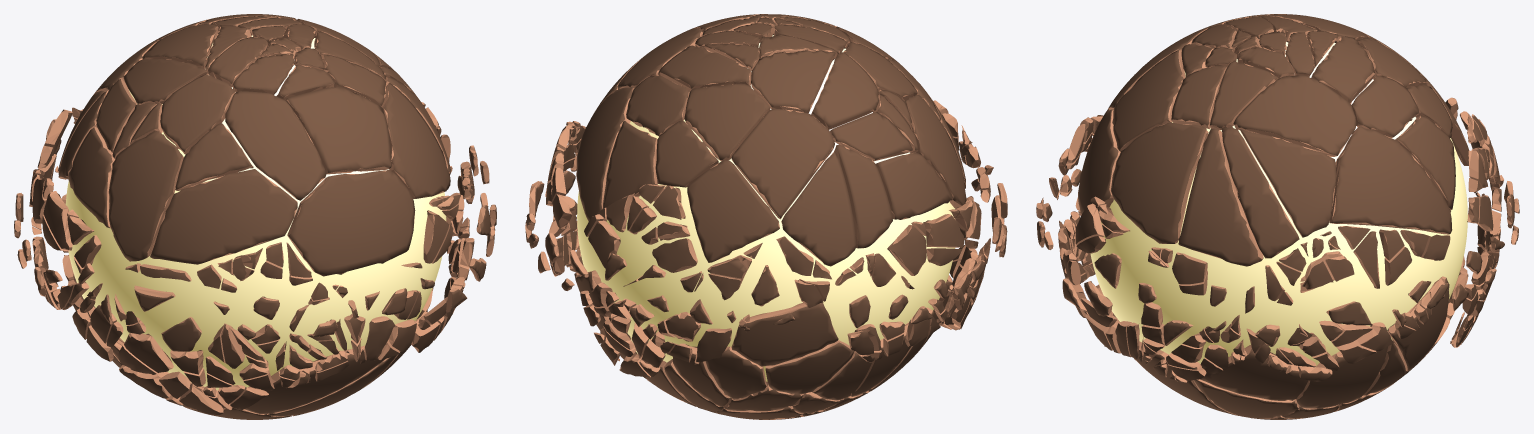
File: blender_planet_basic.glb
The picture shows the model from 3 angles, left to right: view 1: azimuth 30°, elevation 25°; view 2: azimuth 150°, elevation 25°; view 3: azimuth 270°, elevation 25°; orthographic projection.
Parts seen in each view (by area): view 1: Sphere, Sphere_cell.116, Sphere_cell.013, Sphere_cell.110, Sphere_cell.019, Sphere_cell.008, Sphere_cell.022, Sphere_cell.003, Sphere_cell.051, Sphere_cell.006, Sphere_cell.054, Sphere_cell.012 (+22 smaller); view 2: Sphere, Sphere_cell.007, Sphere_cell.118, Sphere_cell.108, Sphere_cell.057, Sphere_cell.130, Sphere_cell.056, Sphere_cell.024, Sphere_cell.051, Sphere_cell.114, Sphere_cell.012, Sphere_cell.098 (+37 smaller); view 3: Sphere, Sphere_cell.024 (×2), Sphere_cell.022 (×2), Sphere_cell.000 (×2), Sphere_cell.123, Sphere_cell.025, Sphere_cell.126, Sphere_cell.008, Sphere_cell.112, Sphere_cell.105, Sphere_cell.103, Sphere_cell.098 (+28 smaller).
Boxes of the visible parts, x1,y1,x2,y2 form: Sphere: [65, 35, 446, 390]; Sphere_cell.116: [288, 169, 415, 276]; Sphere_cell.013: [150, 169, 297, 264]; Sphere_cell.110: [225, 91, 326, 200]; Sphere_cell.019: [108, 131, 182, 261]; Sphere_cell.008: [286, 86, 391, 172]; Sphere_cell.022: [384, 83, 450, 198]; Sphere_cell.003: [160, 73, 234, 151]; Sphere_cell.051: [68, 127, 112, 227]; Sphere_cell.006: [175, 123, 253, 189]; Sphere_cell.054: [245, 349, 384, 413]; Sphere_cell.012: [123, 58, 206, 103]; Sphere: [577, 35, 955, 397]; Sphere_cell.007: [731, 109, 834, 218]; Sphere_cell.118: [687, 160, 779, 262]; Sphere_cell.108: [782, 152, 856, 266]; Sphere_cell.057: [731, 302, 838, 366]; Sphere_cell.130: [684, 83, 769, 160]; Sphere_cell.056: [751, 50, 835, 111]; Sphere_cell.024: [576, 87, 633, 221]; Sphere_cell.051: [877, 152, 952, 219]; Sphere_cell.114: [835, 145, 892, 248]; Sphere_cell.012: [813, 52, 878, 126]; Sphere_cell.098: [603, 120, 656, 208]; Sphere: [1090, 42, 1467, 367]; Sphere_cell.024 (×2): [1329, 126, 1452, 234]; Sphere_cell.022 (×2): [1111, 122, 1208, 243]; Sphere_cell.000 (×2): [1178, 128, 1263, 266]; Sphere_cell.123: [1233, 75, 1356, 155]; Sphere_cell.025: [1240, 129, 1335, 237]; Sphere_cell.126: [1222, 126, 1299, 258]; Sphere_cell.008: [1112, 49, 1183, 150]; Sphere_cell.112: [1200, 350, 1308, 400]; Sphere_cell.105: [1296, 346, 1388, 408]; Sphere_cell.103: [1352, 75, 1419, 136]; Sphere_cell.098: [1396, 115, 1455, 209].
Size of the model in its own units: 2.36 by 1.99 by 2.36.
